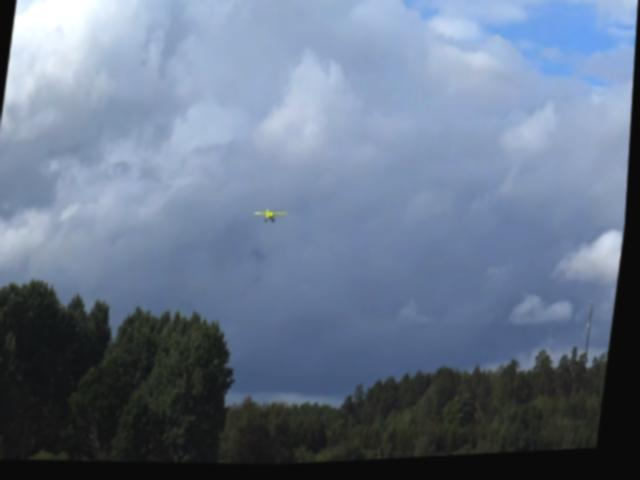plane: (255, 210, 290, 228)
